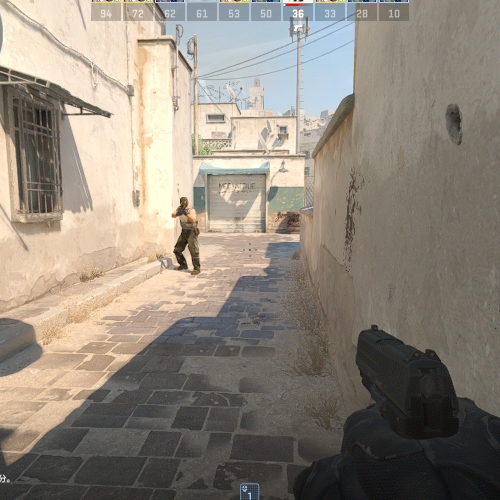t_body: (171, 196, 202, 276)
t_head: (180, 196, 188, 208)
